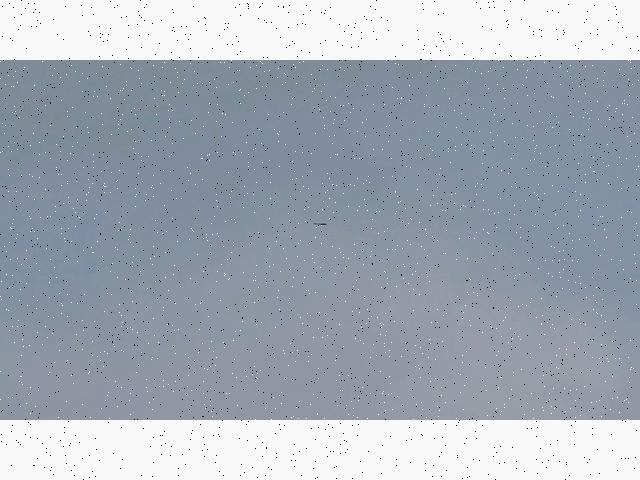Anti-Drone: (312, 219, 328, 229)
